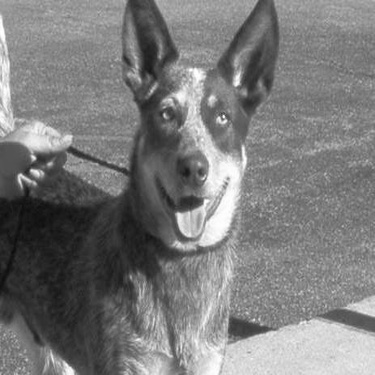dog: (7, 1, 281, 371)
